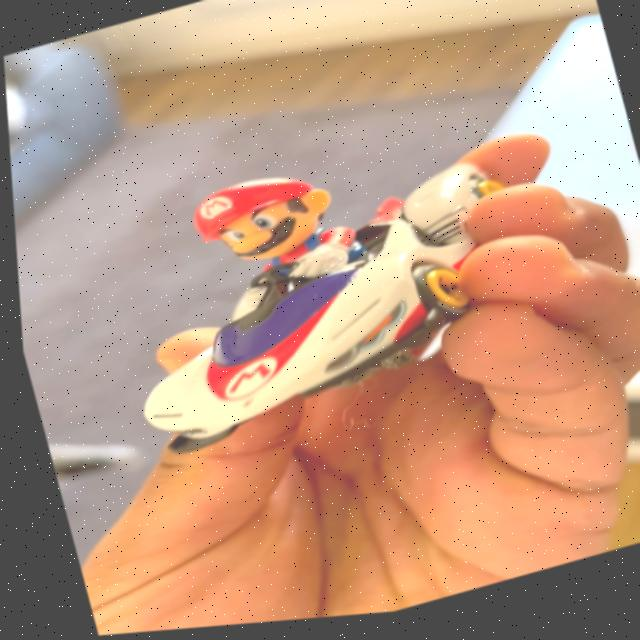mario: (54, 103, 572, 477)
